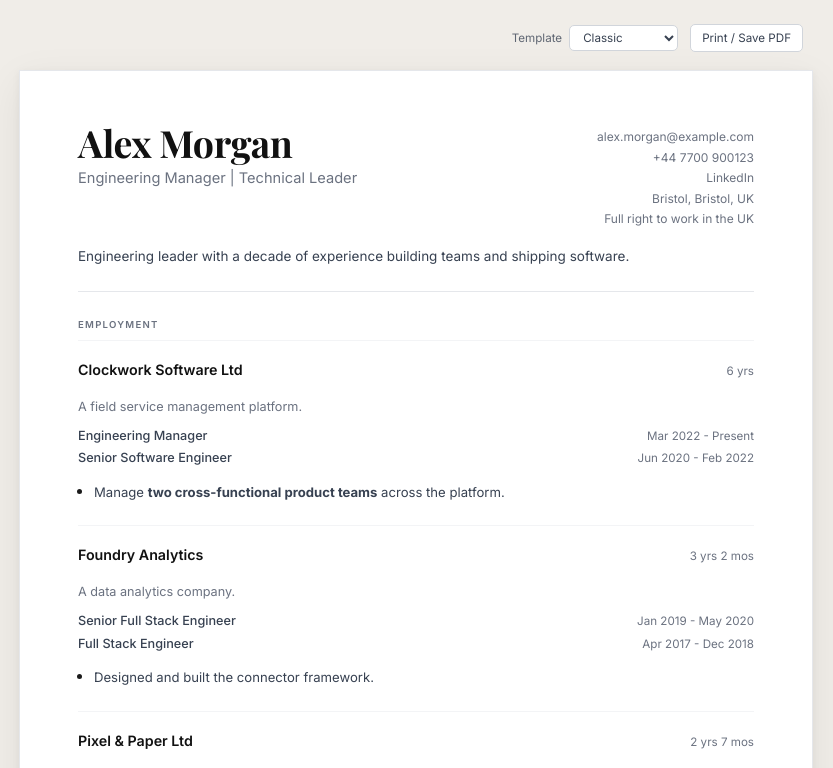
Test case: CVPage › switches templates and stores the choice in the URL
Select "Two Column" in the dropdown labelled "Template" at [624, 38], box [569,25,678,51]
(page scrolled)
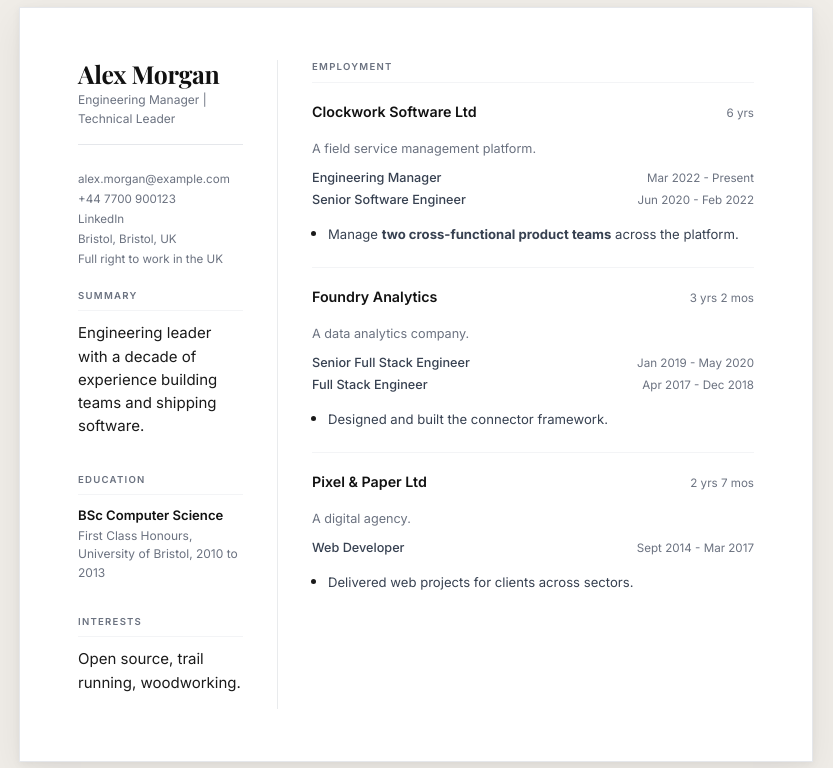
Expected: the element with class "template-two-column" is shown
